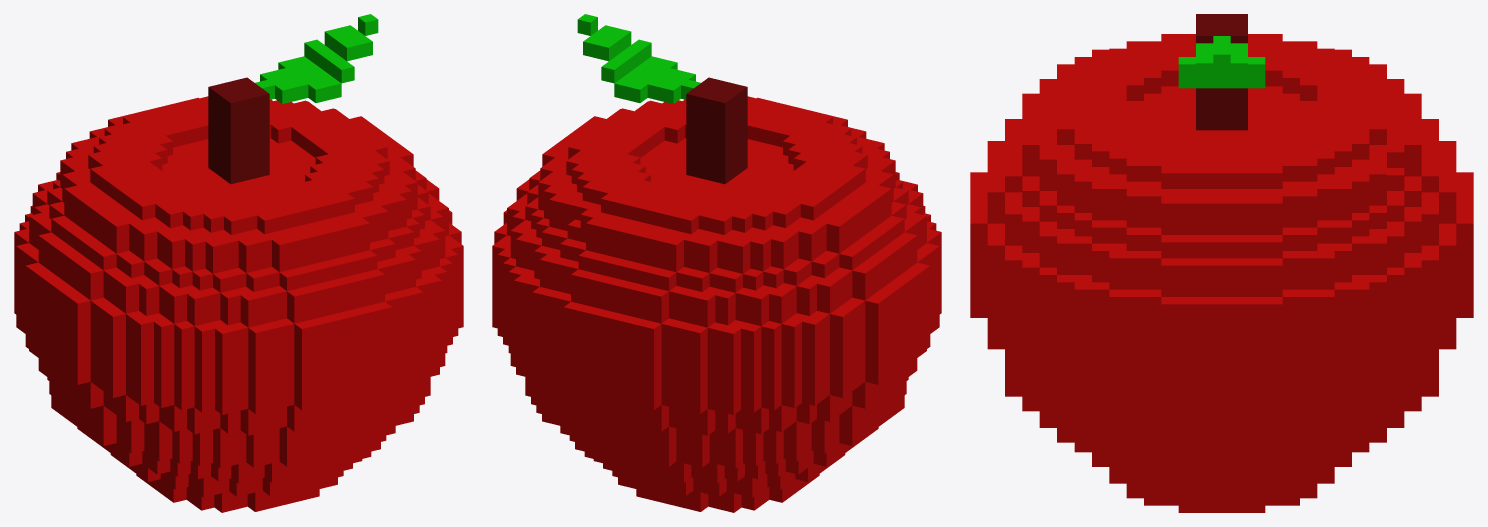
Rendered from apple.obj.
3 views of the same model, side by side, from view 1: azimuth 30°, elevation 25°; view 2: azimuth 150°, elevation 25°; view 3: azimuth 270°, elevation 25° (orthographic). The views are drawn at different scales.
Bounding box in the file's own units: 29 × 31 × 29.
Materials: 1 (1 with a texture image).
